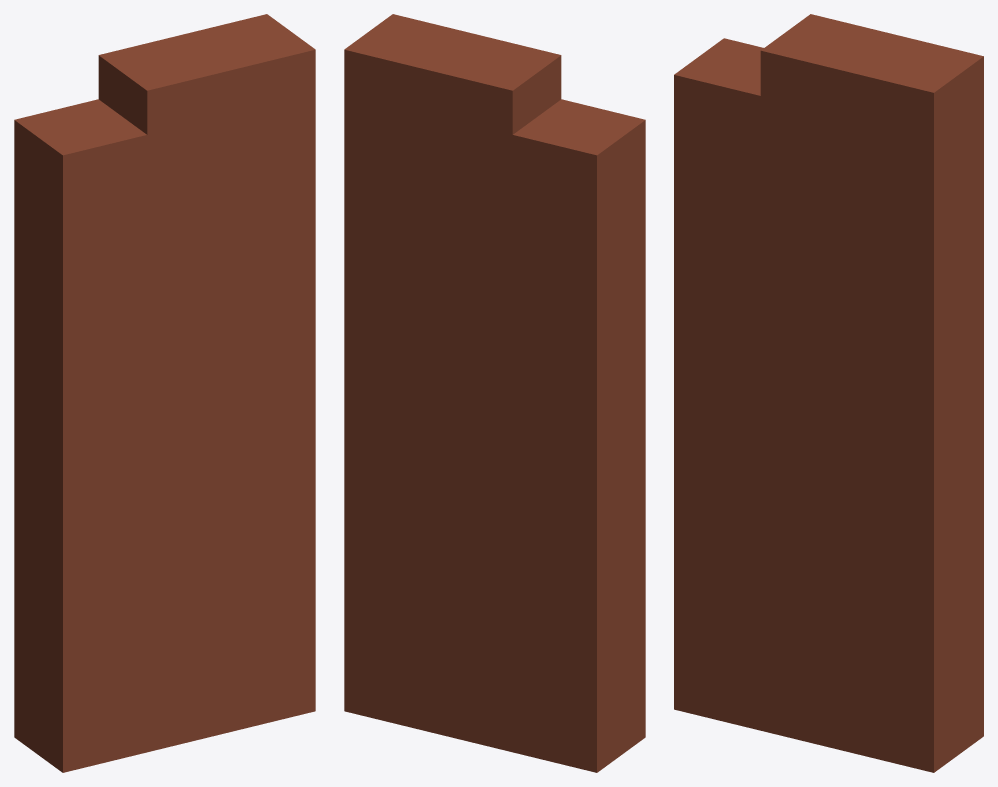
The model's file is wood-plank.obj.
3 renders of one model, left to right at view 1: azimuth 30°, elevation 25°; view 2: azimuth 150°, elevation 25°; view 3: azimuth 330°, elevation 25°, orthographic. The views are drawn at different scales.
Bounding box in the file's own units: 3 × 7.5 × 1.
Materials: 1 (1 with a texture image).
